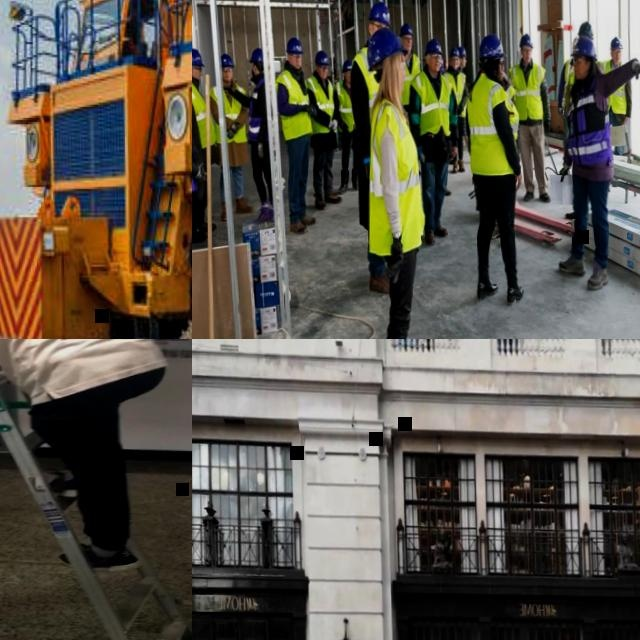Hardhat: (365, 25, 407, 72), (477, 31, 506, 58), (568, 35, 597, 59), (366, 0, 390, 25), (422, 36, 443, 55), (284, 36, 303, 54), (577, 19, 593, 38), (517, 31, 533, 47), (313, 49, 329, 65), (397, 21, 412, 37), (247, 47, 262, 63), (192, 47, 203, 66), (608, 35, 623, 48), (339, 57, 352, 72), (220, 53, 233, 68), (448, 45, 459, 57), (457, 44, 467, 56), (571, 33, 578, 43), (328, 55, 336, 61), (439, 55, 443, 66)
Mask: (250, 64, 255, 77)
NO-Mask: (573, 64, 586, 77), (429, 60, 440, 70), (289, 60, 301, 69), (192, 71, 200, 83), (401, 41, 411, 50), (400, 73, 405, 91), (221, 72, 231, 81), (521, 53, 530, 62), (317, 70, 326, 79), (497, 66, 502, 79), (612, 54, 620, 62), (450, 61, 457, 67), (344, 75, 350, 82), (460, 60, 465, 67)
NO-Safety Vest: (0, 339, 163, 395)
Person: (0, 339, 170, 569), (550, 32, 640, 288), (360, 22, 429, 339), (462, 30, 525, 305), (346, 0, 397, 292), (405, 35, 460, 246), (273, 34, 319, 232), (224, 46, 273, 227), (508, 30, 553, 202), (208, 52, 251, 222), (304, 48, 341, 210), (559, 17, 607, 113), (192, 46, 215, 242), (599, 33, 633, 154), (331, 56, 358, 193), (441, 44, 469, 174), (192, 49, 208, 252), (554, 32, 581, 152), (397, 20, 423, 120), (451, 43, 470, 161), (326, 55, 337, 82)
Safety Vest: (364, 94, 425, 254), (464, 71, 520, 174), (563, 69, 613, 164), (408, 67, 453, 134), (350, 42, 382, 129), (274, 68, 312, 141), (507, 59, 547, 119), (208, 82, 247, 143), (304, 73, 335, 135), (192, 75, 214, 148), (569, 58, 605, 102), (244, 76, 266, 144), (601, 57, 627, 110), (331, 79, 354, 132), (399, 51, 421, 104), (442, 68, 466, 116), (560, 56, 573, 114), (460, 70, 467, 106), (504, 83, 515, 98), (329, 64, 338, 82)
machinery: (0, 0, 192, 339)
